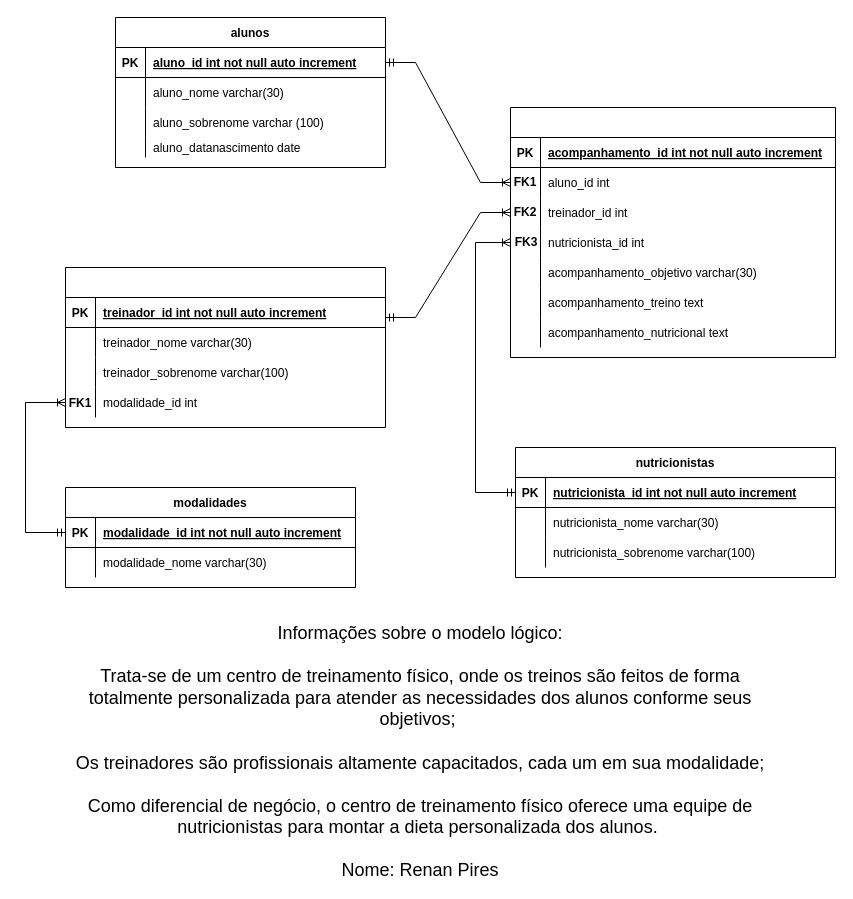
Image size: 853x899. Some labels were removed from this diagram. Each missing label, with the box of its shape:
acompanhamentos: (510, 106, 836, 358)
treinadores: (64, 266, 386, 428)
